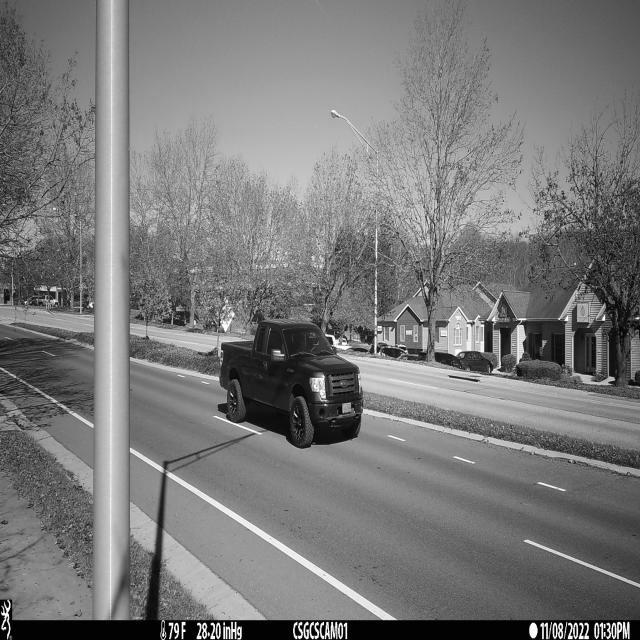Pickup: (219, 318, 363, 449)
